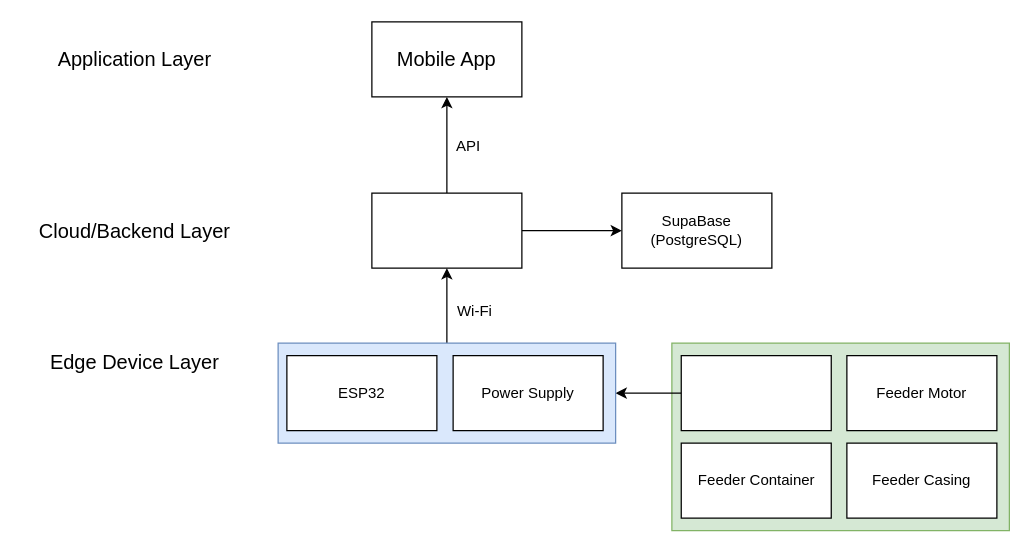
This 1031x553 diagram has some shape labels left out. Here are the shapes that lost their labels. From the top down, the box of each, then its label:
(371, 192, 522, 268): FastAPI (Render, Vercel, Railway)
(680, 354, 831, 431): Sensors (Temperature, pH)
